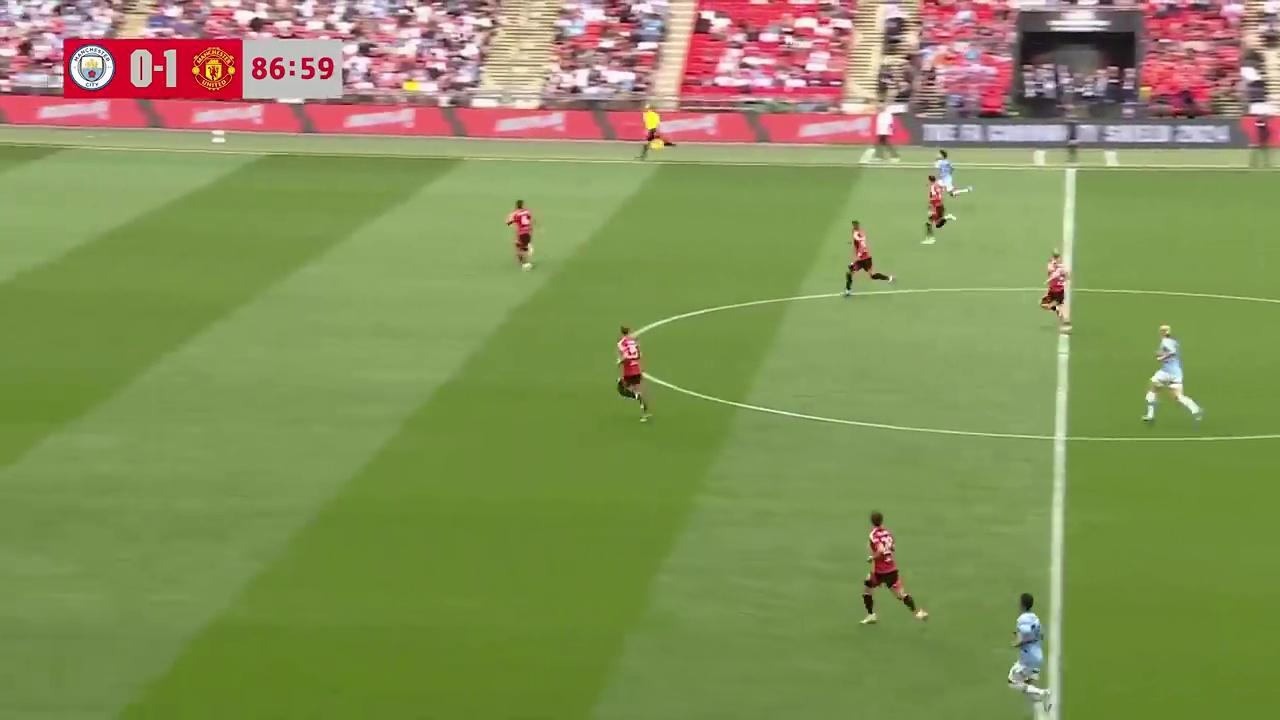player: (859, 512, 930, 625), (1140, 323, 1203, 425), (1006, 591, 1054, 714), (843, 220, 893, 295), (615, 327, 652, 422), (1038, 250, 1070, 330), (505, 199, 534, 270), (922, 178, 948, 243), (933, 151, 961, 202)
referee: (639, 105, 667, 161)
